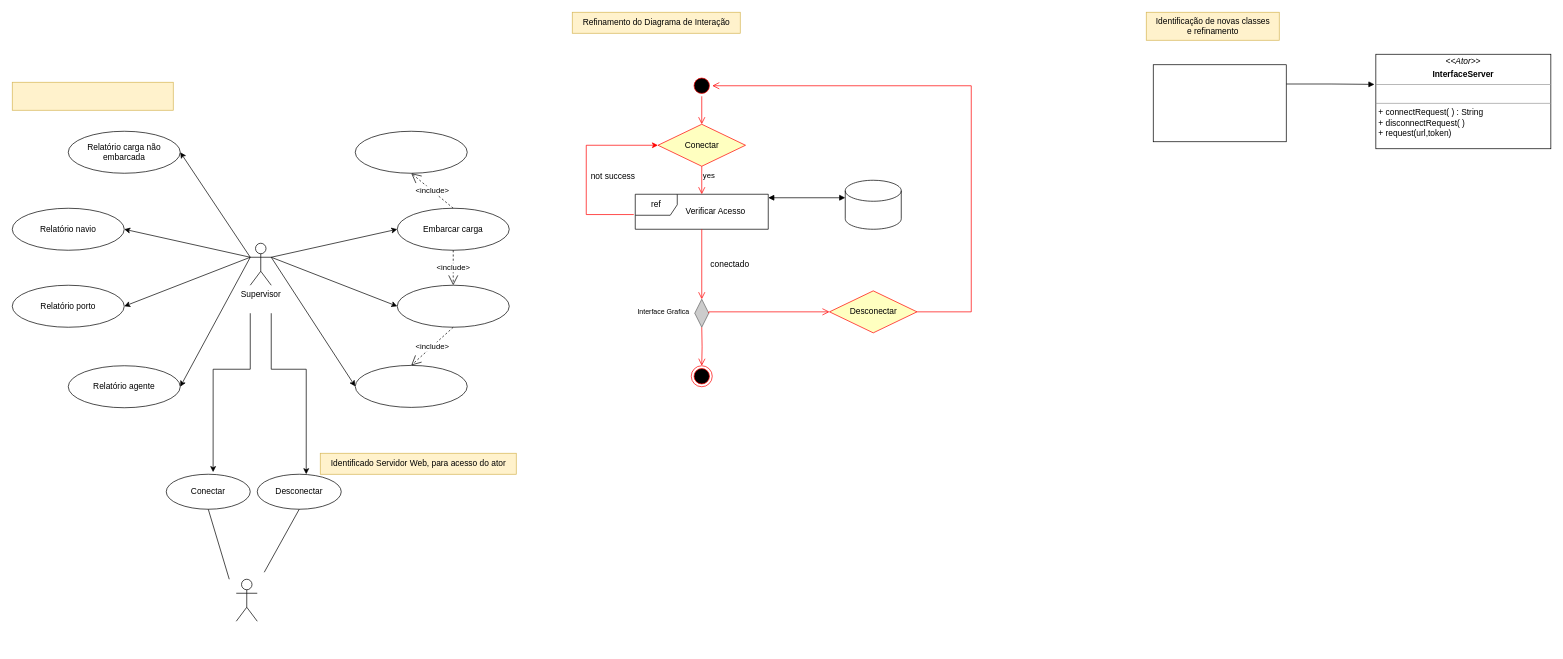
Some shapes in this 1563 by 659 pixel diagram are drawn without their labels. Each missing label, with the centre of its shape:
"<<Ator>> Supervisor # token: String + setToken():" goes at point 1219,103.
"Banco de dados" goes at point 873,204.
"Desembarcar carga" goes at point 453,306.
"Entregar carga" goes at point 411,386.
"Identificação de novos casos de Uso e Refinamento" goes at point 92,96.
"InterfaceServer" goes at point 246,600.
"Relatório carga embarcada" goes at point 411,152.
